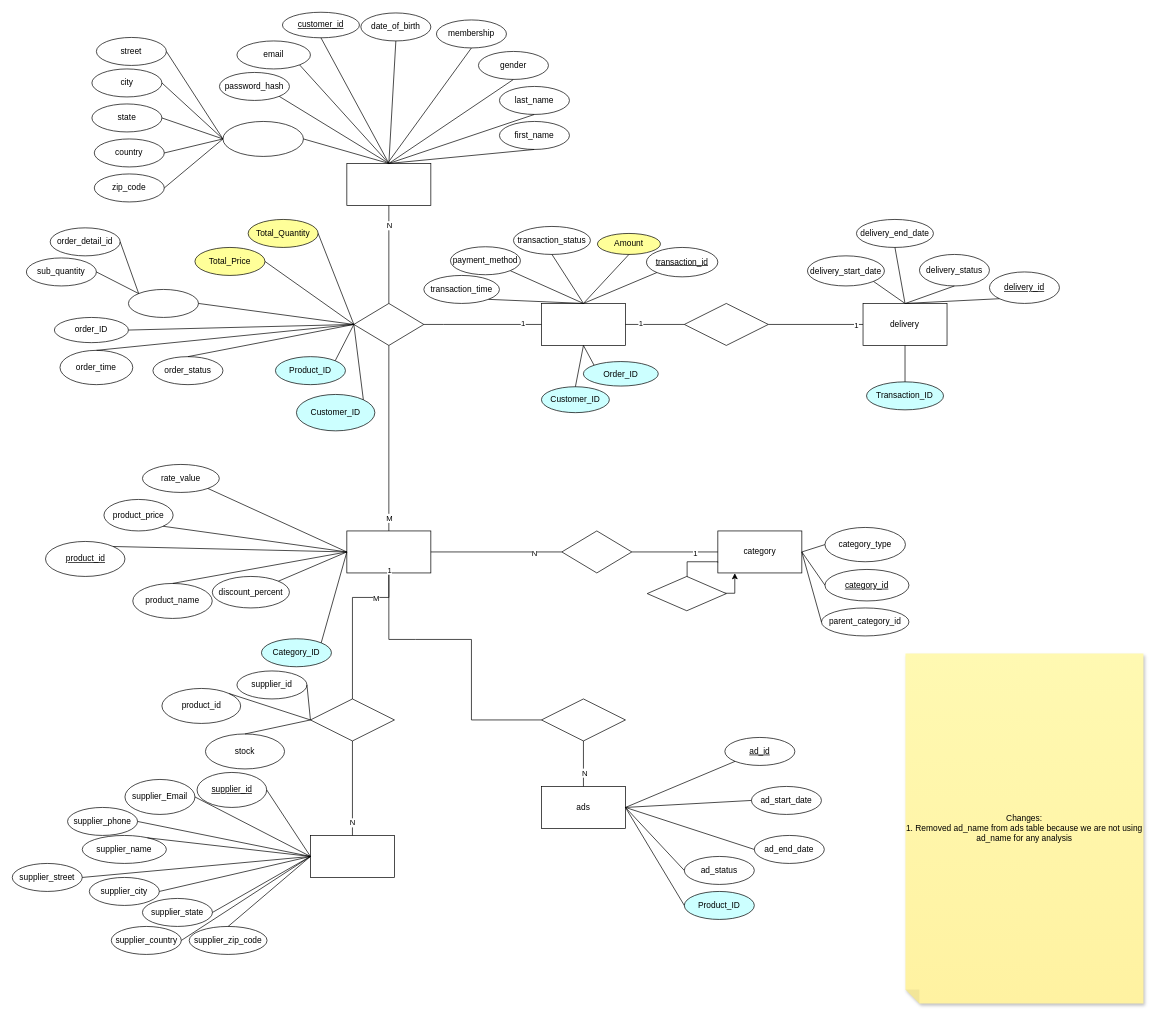
Image size: 1160x1021. Some labels were removed from this diagram. The shapes that lost their labels are listed below. From the top down, each one's centre as x and y in pixels, then its label:
At [262,138]: "customer_address".
At [388,184]: "customer".
At [163,303]: "order_details".
At [388,324]: "orders".
At [583,324]: "transaction".
At [726,324]: "requires".
At [388,551]: "product".
At [596,551]: "belong to".
At [686,593]: "is child of".
At [352,719]: "supply".
At [583,719]: "has".
At [352,856]: "supplier".
